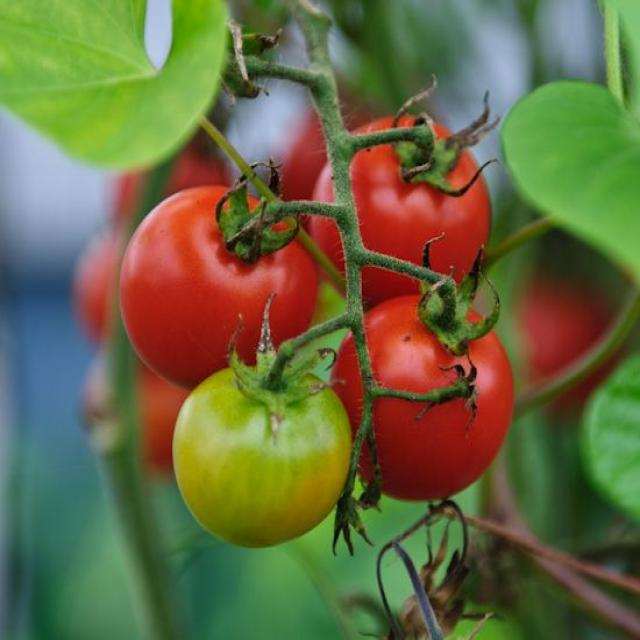level 3: (177, 373, 341, 557)
level 6: (321, 299, 521, 507), (119, 186, 314, 381), (329, 115, 497, 312)
